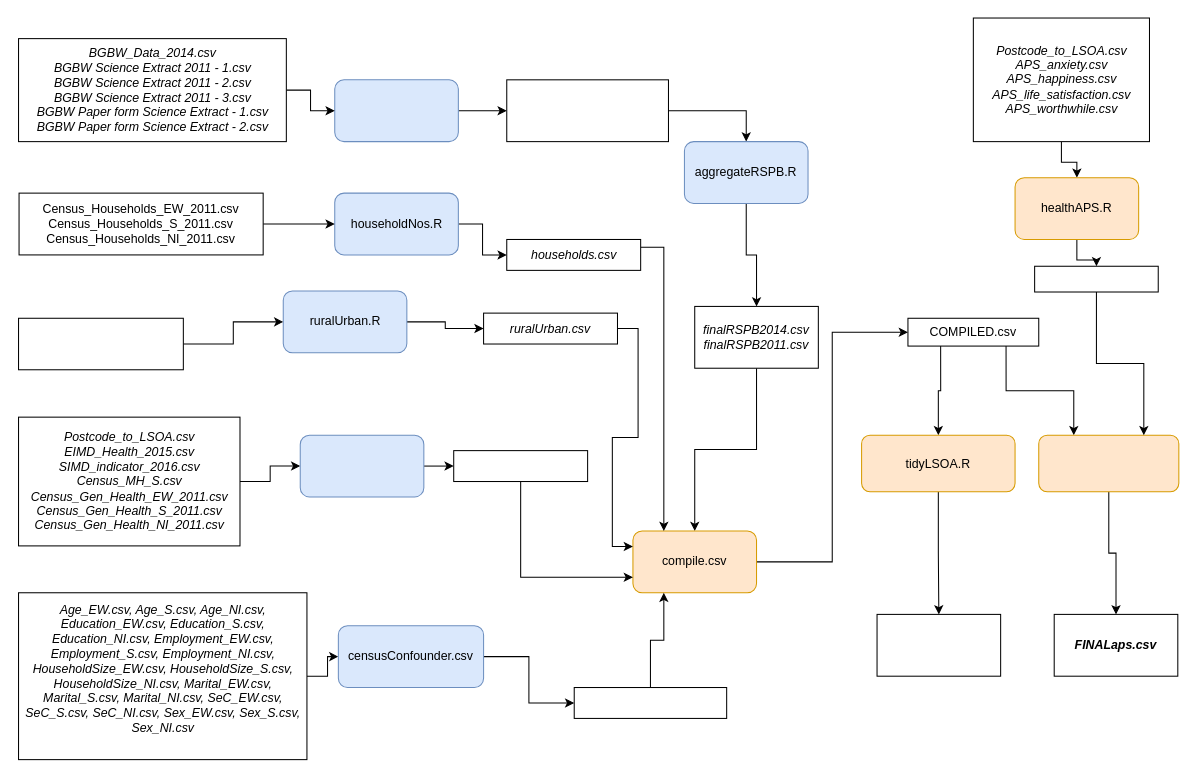
Image size: 1197x778. Some labels were removed from this diagram. Each missing label, with the box of its shape:
aggregationAPS.R: (1038, 434, 1179, 492)
censusConfounders.csv: (573, 686, 727, 718)
cleanedRSPB2014.csv cleanedRSPB2011.csv: (506, 79, 668, 142)
FINALlsoa.csv: (876, 613, 1001, 676)
healthAPS.csv: (1034, 265, 1158, 292)
healthMeasures.csv: (453, 450, 588, 482)
healthMeasures.R: (299, 434, 424, 497)
Postcode_to_LSOA.csv OA_Rural_Urban.csv: (18, 317, 183, 370)
processRSPB.R: (334, 79, 458, 142)
